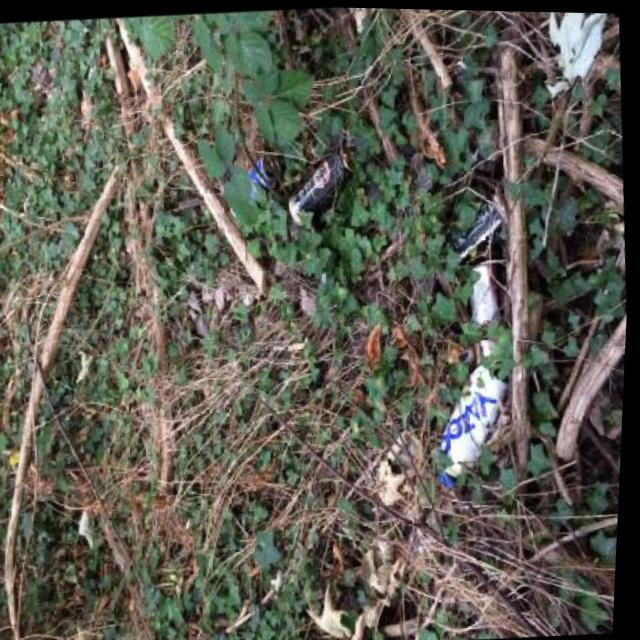metal: (283, 142, 361, 226), (462, 259, 509, 356), (444, 192, 506, 258), (239, 152, 283, 204)
plastic: (430, 359, 515, 489)
